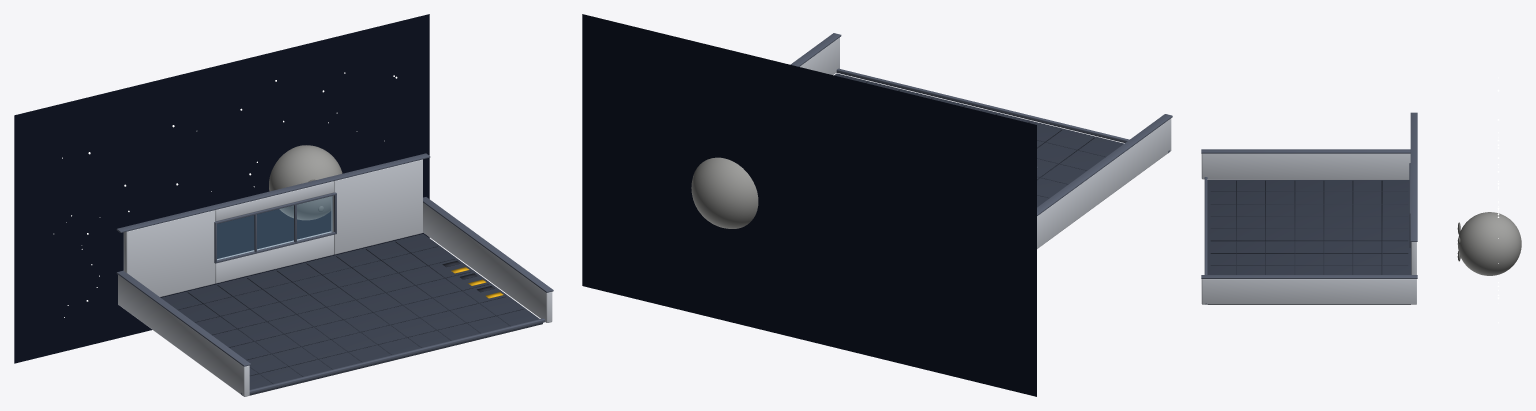
The model's file is Room_Shell.glb.
3 views of the same model, side by side, from view 1: azimuth 30°, elevation 25°; view 2: azimuth 150°, elevation 25°; view 3: azimuth 270°, elevation 25° (orthographic). The views are drawn at different scales.
Parts seen in each view (by area): view 1: Room_Shell.Space, Room_Shell.Floor, Room_Shell.BackR, Room_Shell.BackL, Room_Shell.WallL, Room_Shell.Glass, Room_Shell.WallR, Room_Shell.Moon, Room_Shell.BackLow, Room_Shell.BackTrim, Room_Shell.FrontLip, Room_Shell.BackTop (+2 smaller); view 2: Room_Shell.Space, Room_Shell.WallL, Room_Shell.Floor, Room_Shell.Moon, Room_Shell.FrontLip, Room_Shell.WallLTrim, Room_Shell.WallR; view 3: Room_Shell.Floor, Room_Shell.WallL, Room_Shell.WallR, Room_Shell.Moon, Room_Shell.WallLTrim, Room_Shell.BackTrim, Room_Shell.WallRTrim, Room_Shell.FrontLip, Room_Shell.GridX5.
Part boxes in pixels (<box>): Room_Shell.Space: <box>14,14,429,363</box>; Room_Shell.Floor: <box>161,233,542,395</box>; Room_Shell.BackR: <box>331,159,422,254</box>; Room_Shell.BackL: <box>123,210,215,297</box>; Room_Shell.WallL: <box>118,275,249,396</box>; Room_Shell.Glass: <box>217,196,332,259</box>; Room_Shell.WallR: <box>423,203,552,322</box>; Room_Shell.Moon: <box>269,145,342,220</box>; Room_Shell.BackLow: <box>215,231,333,283</box>; Room_Shell.BackTrim: <box>116,153,430,232</box>; Room_Shell.FrontLip: <box>241,318,544,395</box>; Room_Shell.BackTop: <box>215,181,333,221</box>; Room_Shell.Space: <box>582,14,1036,396</box>; Room_Shell.WallL: <box>1037,118,1171,248</box>; Room_Shell.Floor: <box>834,73,1123,207</box>; Room_Shell.Moon: <box>691,157,758,228</box>; Room_Shell.FrontLip: <box>836,68,1169,152</box>; Room_Shell.WallLTrim: <box>1037,114,1172,215</box>; Room_Shell.WallR: <box>800,37,839,74</box>; Room_Shell.Floor: <box>1207,179,1411,304</box>; Room_Shell.WallL: <box>1201,153,1410,179</box>; Room_Shell.WallR: <box>1201,279,1416,304</box>; Room_Shell.Moon: <box>1457,212,1521,275</box>; Room_Shell.WallLTrim: <box>1201,149,1410,153</box>; Room_Shell.BackTrim: <box>1410,112,1417,241</box>; Room_Shell.WallRTrim: <box>1201,275,1417,278</box>; Room_Shell.FrontLip: <box>1204,177,1207,304</box>; Room_Shell.GridX5: <box>1211,240,1407,241</box>.
Bounding box in the file's own units: 14 × 8 × 11.02.
